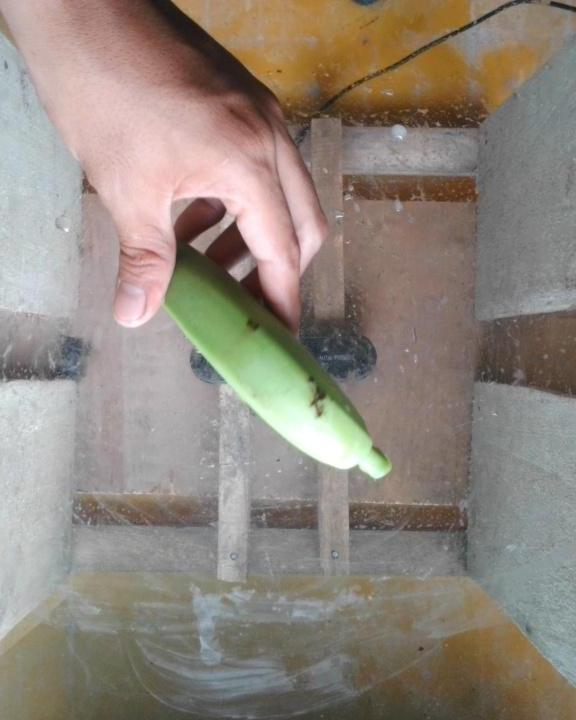CLASS B: (127, 222, 407, 484)
Class A: (296, 372, 337, 425), (231, 306, 272, 347)
